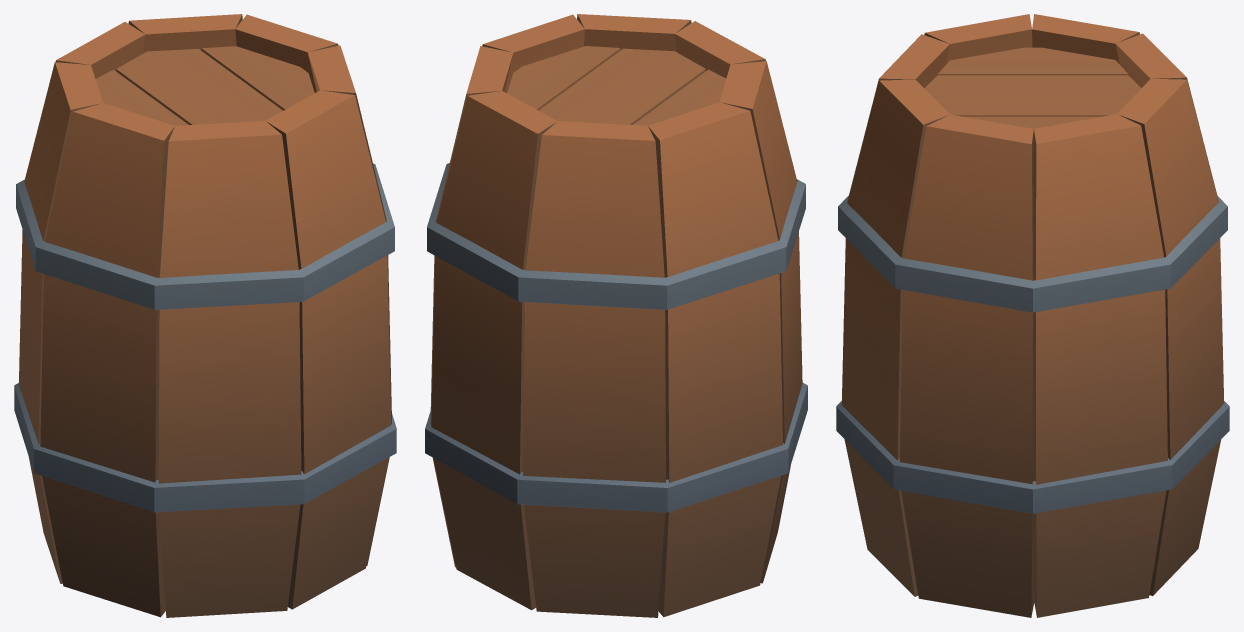
The model's file is Бочка.fbx.
The picture shows the model from 3 angles, left to right: view 1: azimuth 30°, elevation 25°; view 2: azimuth 150°, elevation 25°; view 3: azimuth 270°, elevation 25°; orthographic projection.
Parts seen in each view (by area): view 1: Бочка; view 2: Бочка; view 3: Бочка.
Boxes of the visible parts, left/top/right/bottom form: Бочка: left=14, top=14, right=396, bottom=617; Бочка: left=425, top=14, right=807, bottom=617; Бочка: left=836, top=14, right=1229, bottom=617.
Bounding box in the file's own units: 23.8 × 31.28 × 23.8.
